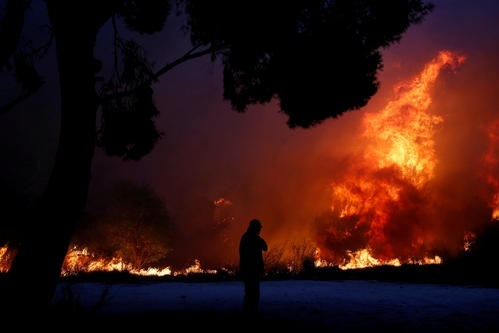fire: (321, 40, 451, 262), (58, 242, 223, 277), (212, 191, 235, 224)
